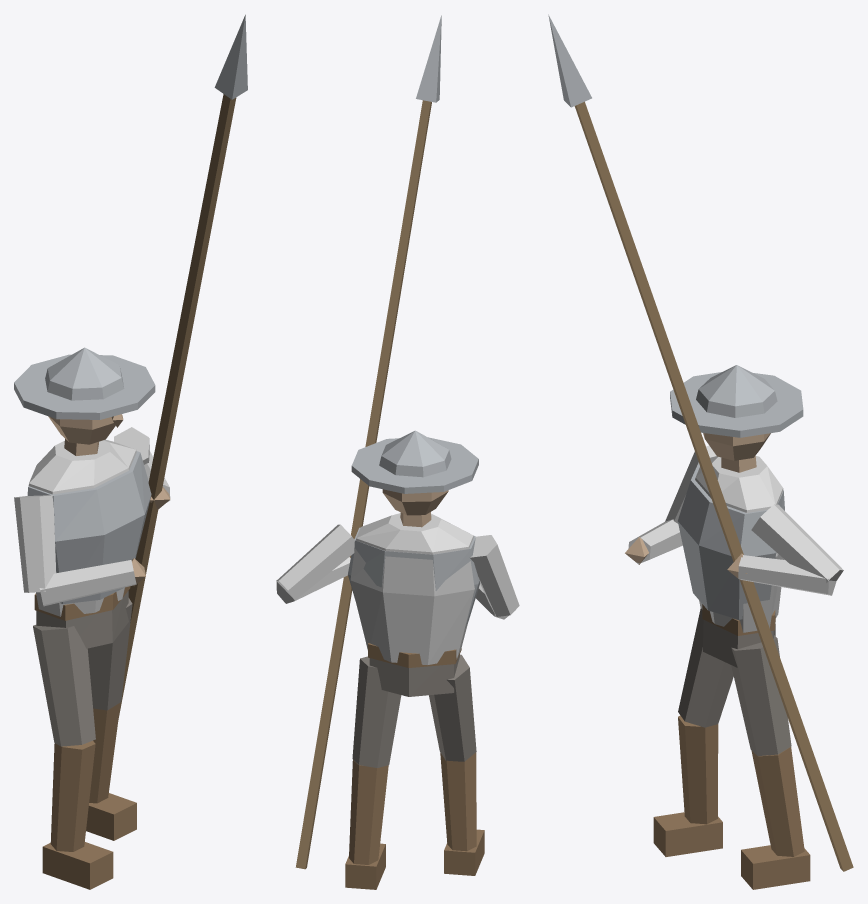
The model's file is pikeman.glb.
3 views of the same model, side by side, from view 1: azimuth 30°, elevation 25°; view 2: azimuth 150°, elevation 25°; view 3: azimuth 270°, elevation 25° (orthographic). The views are drawn at different scales.
Parts seen in each view (by area): view 1: LOD0; view 2: LOD0; view 3: LOD0.
Boxes of the visible parts, <box> form: LOD0: <box>14,14,247,889</box>; LOD0: <box>276,15,519,889</box>; LOD0: <box>548,14,853,889</box>.
Size of what is drawn, in the model's own units: 0.408 by 1.75 by 0.5502.
